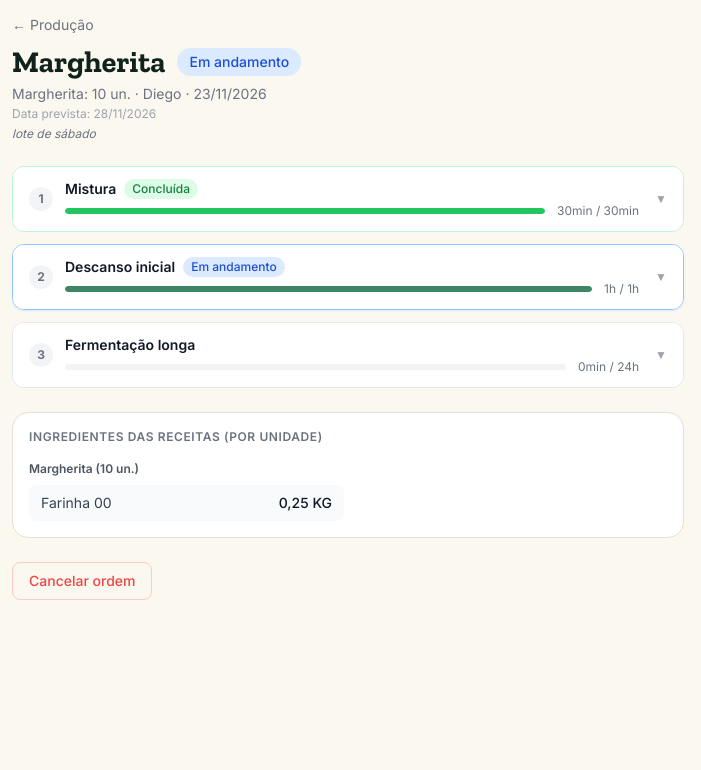
Test case: detalhe da ordem de produção › registra temperatura e umidade na etapa em andamento
Click the text "Descanso inicial" at point(120, 267), box [65, 257, 175, 277]
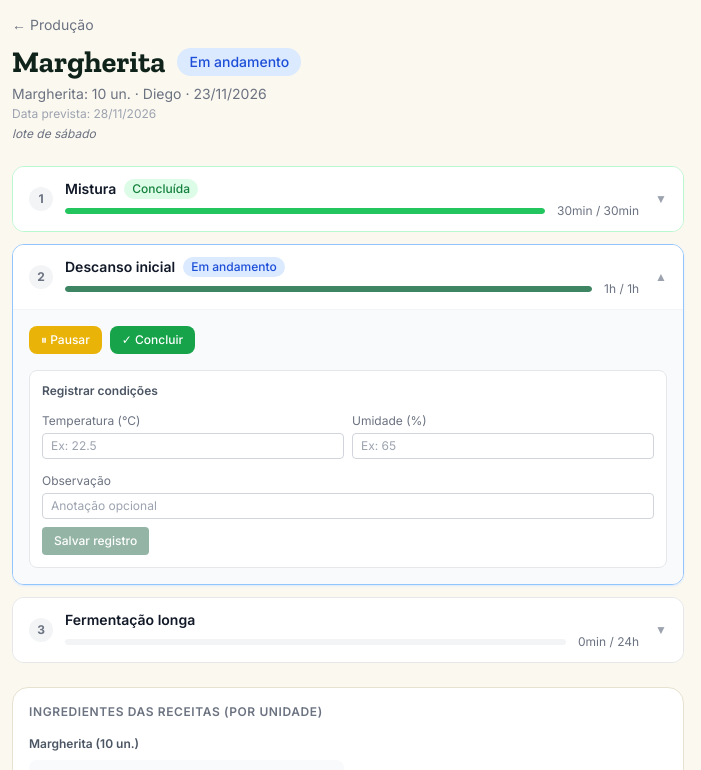
Check: the button "Salvar registro" is disabled, box [42, 527, 149, 555]
Type "4.5" into the number field with placeholder "Ex: 22.5" at point(193, 446), box [42, 433, 344, 459]
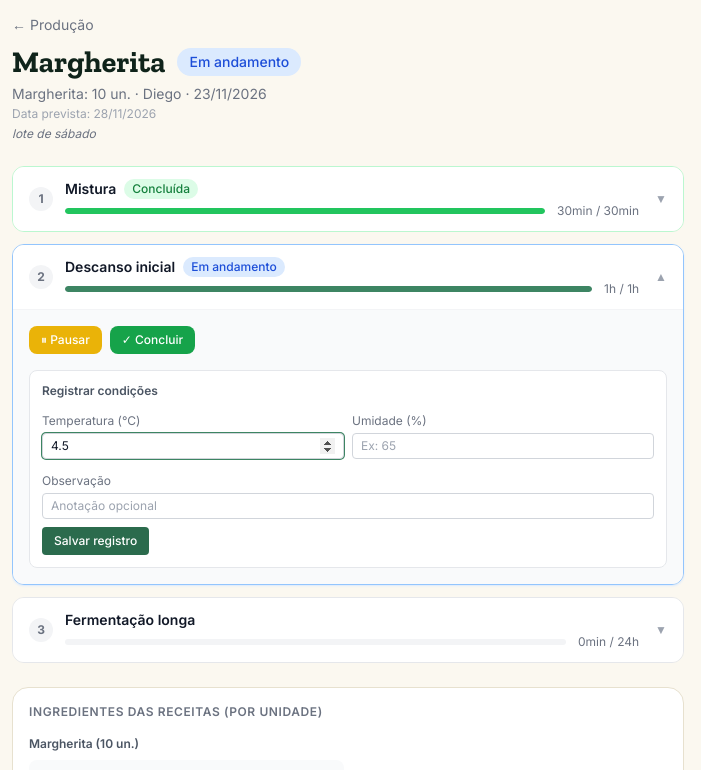
Type "70" into the number field with placeholder "Ex: 65" at point(503, 446), box [352, 433, 654, 459]
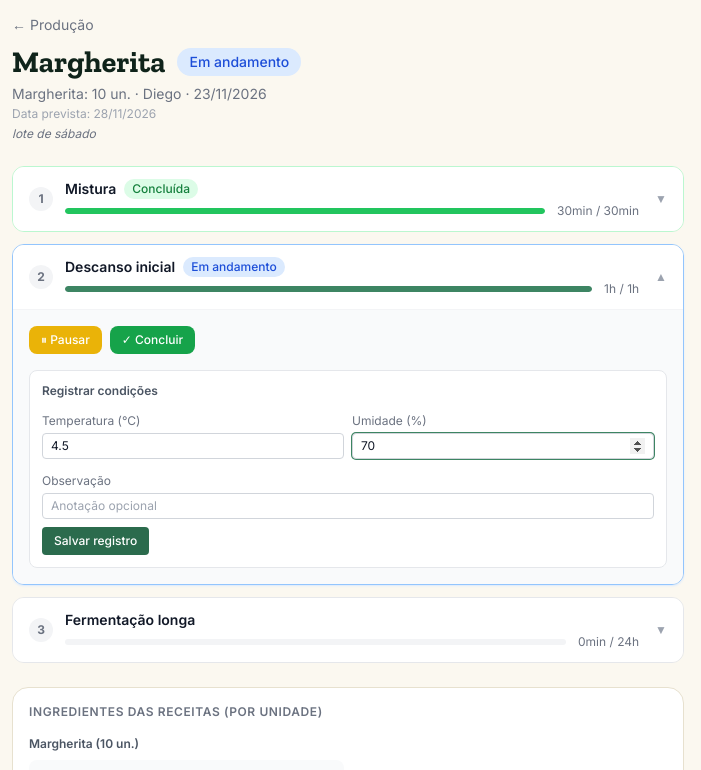
Click the button "Salvar registro" at point(96, 541), box [42, 527, 149, 555]
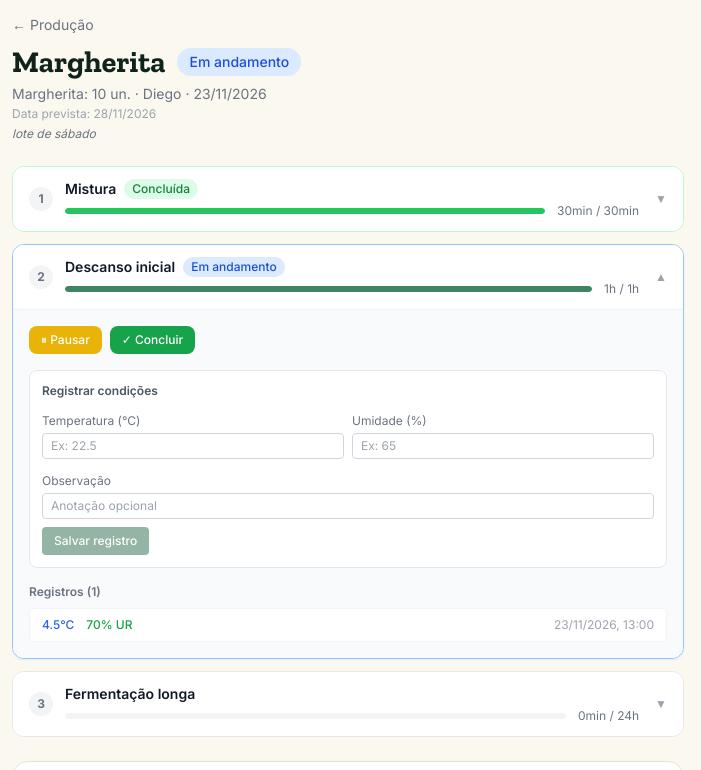
Check: the text "4.5°C" is shown, box [42, 617, 74, 633]
Check: the text "70% UR" is shown, box [86, 617, 132, 633]
